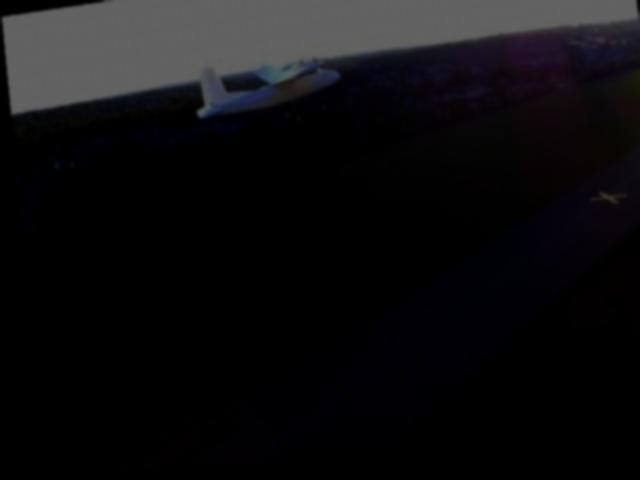uav: (188, 40, 344, 140)
